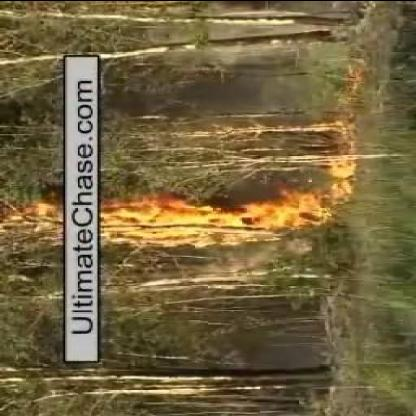foggia-v2-map80-epoch100 - v1 4323: (99, 201, 302, 237), (332, 161, 355, 179)
